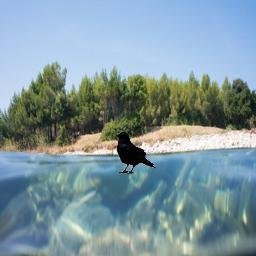Crow: (114, 131, 157, 174)
